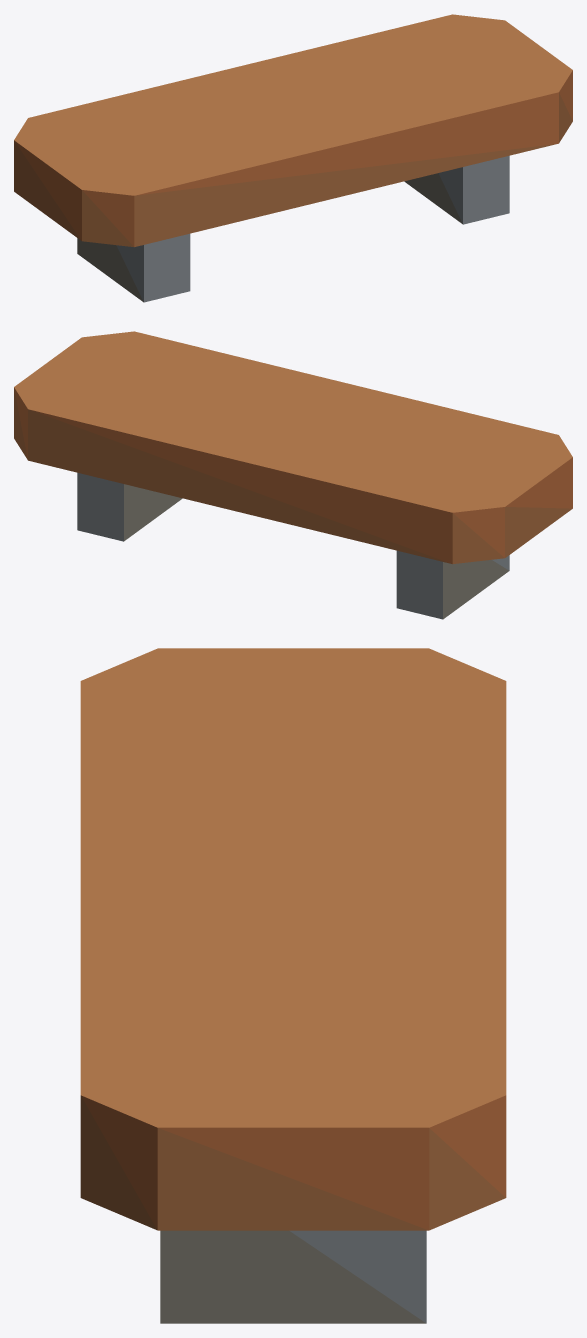
Rendered from itch_kaykit_city_bits_bench.glb.
3 renders of one model, top to bottom at view 1: azimuth 30°, elevation 25°; view 2: azimuth 150°, elevation 25°; view 3: azimuth 270°, elevation 25°, orthographic. The views are drawn at different scales.
Parts seen in each view (by area): view 1: bench; view 2: bench; view 3: bench.
Part boxes in pixels (box(x1,y1,x2,y2)): bench: box(14, 14, 572, 302); bench: box(14, 331, 572, 619); bench: box(80, 648, 506, 1323).
Size of the model in its own units: 0.96 by 0.24 by 0.36.
